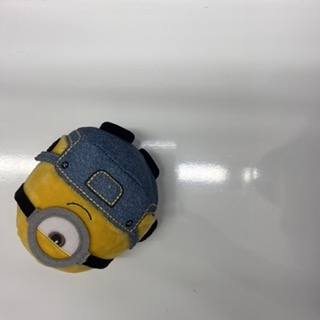minion: (14, 121, 159, 273)
